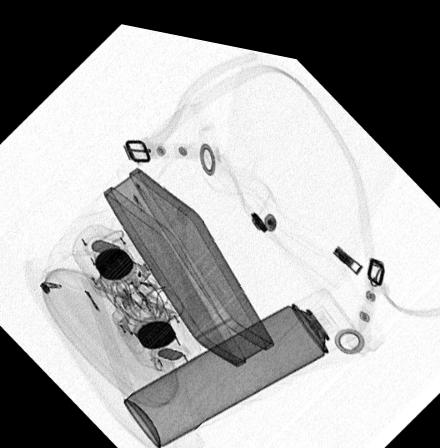Sprayer: (122, 273, 354, 443)
